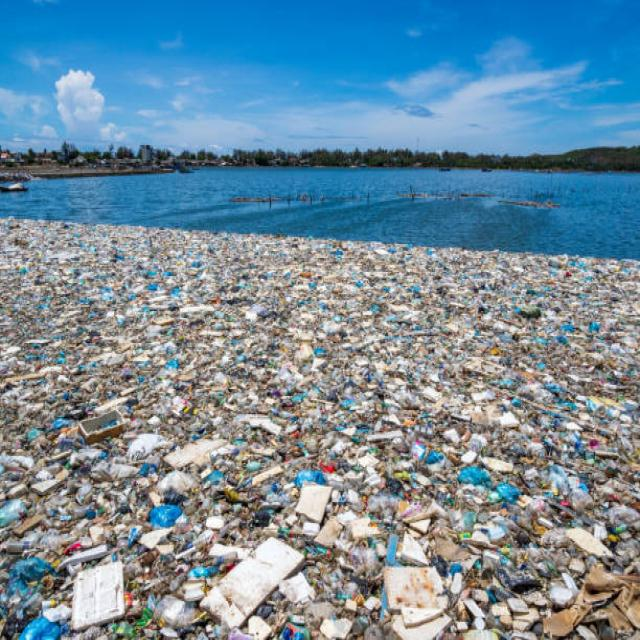trash: (9, 251, 608, 629)
